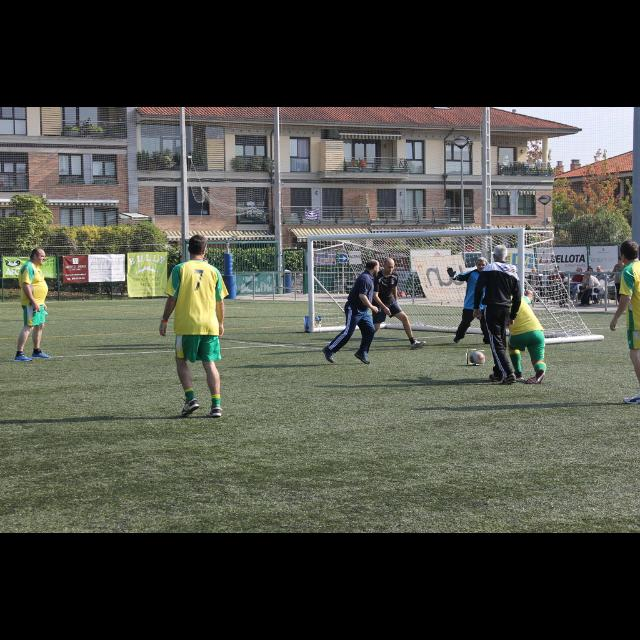Football: (467, 350, 485, 364)
